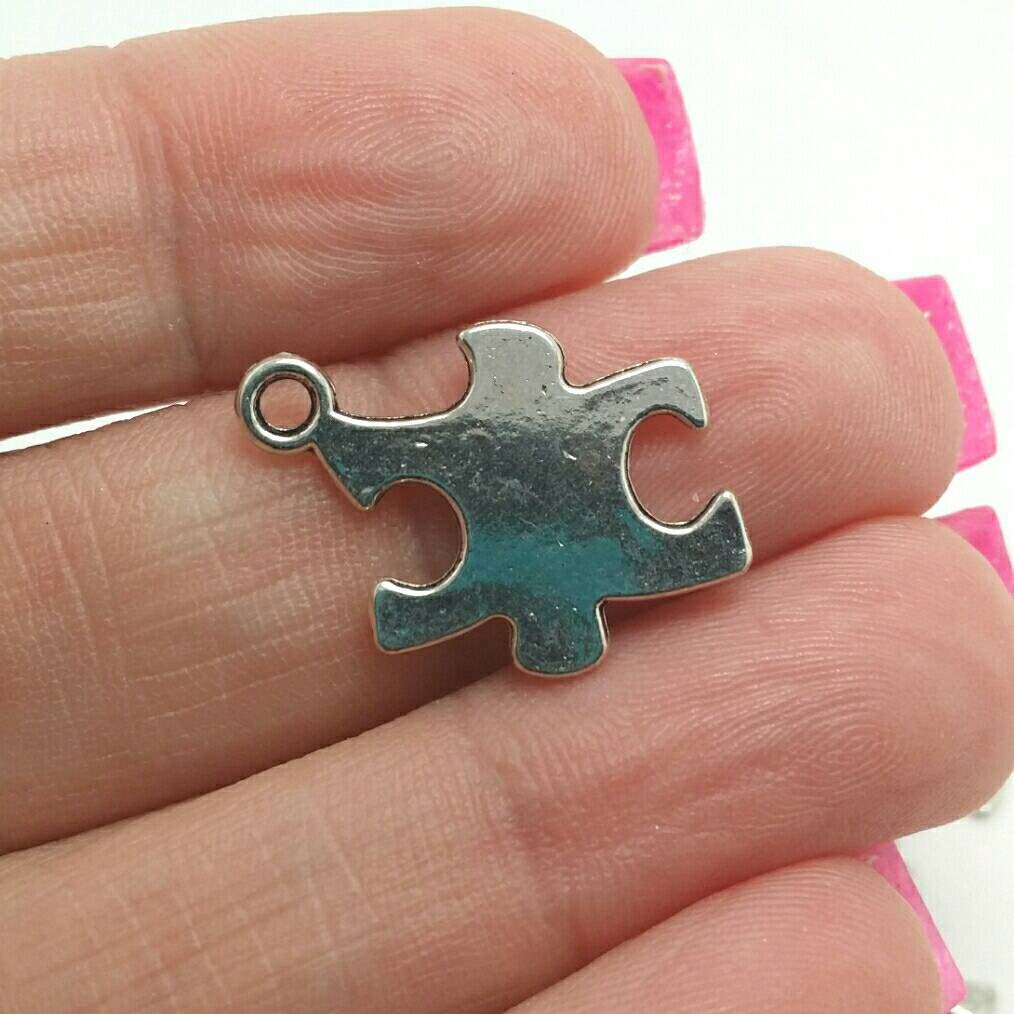puzzle piece: (211, 293, 780, 686)
